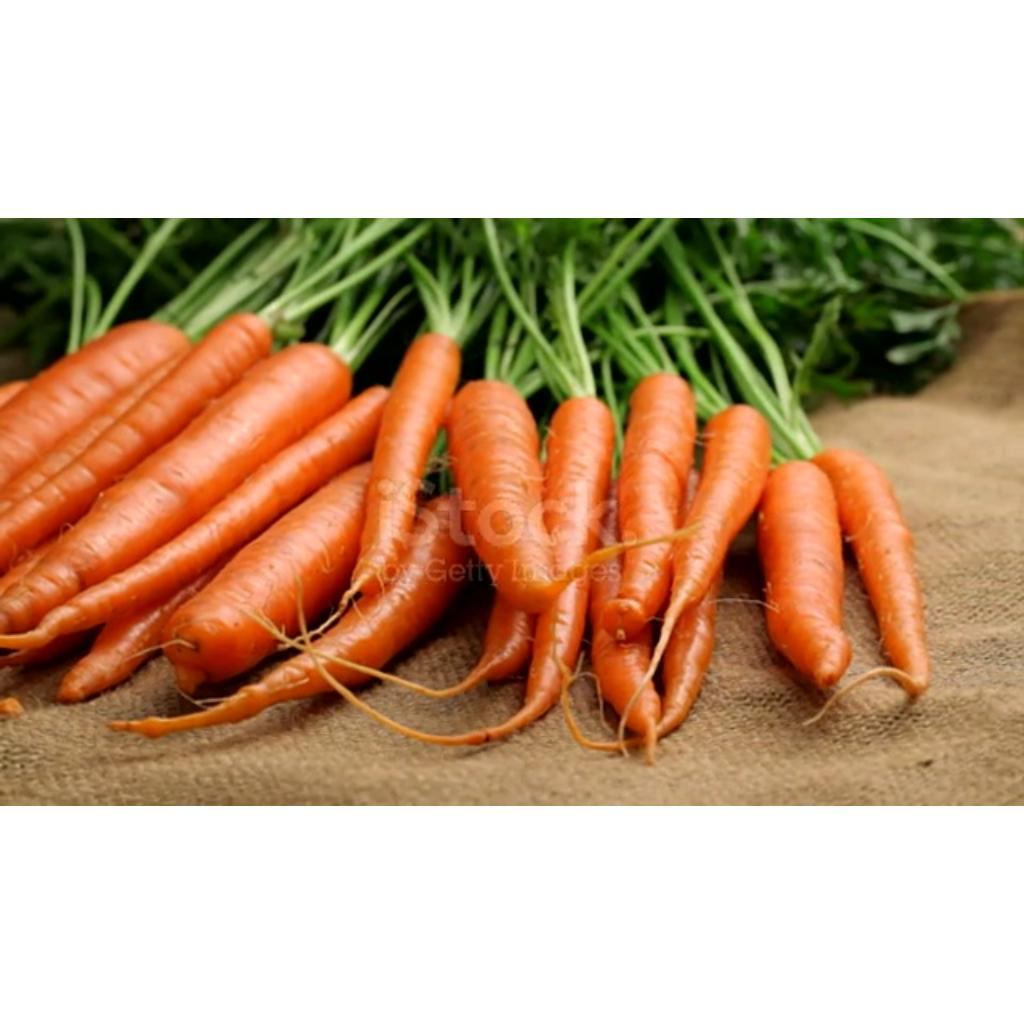carrot: (0, 386, 390, 650), (0, 344, 352, 633), (1, 314, 272, 573), (203, 498, 474, 720), (162, 461, 369, 692), (513, 398, 614, 724), (0, 322, 188, 489), (348, 332, 460, 596), (814, 450, 932, 698), (658, 406, 770, 649), (448, 380, 562, 613), (604, 373, 694, 639), (758, 462, 852, 690), (595, 482, 662, 748), (55, 596, 178, 702), (658, 572, 721, 737), (483, 600, 535, 678)
